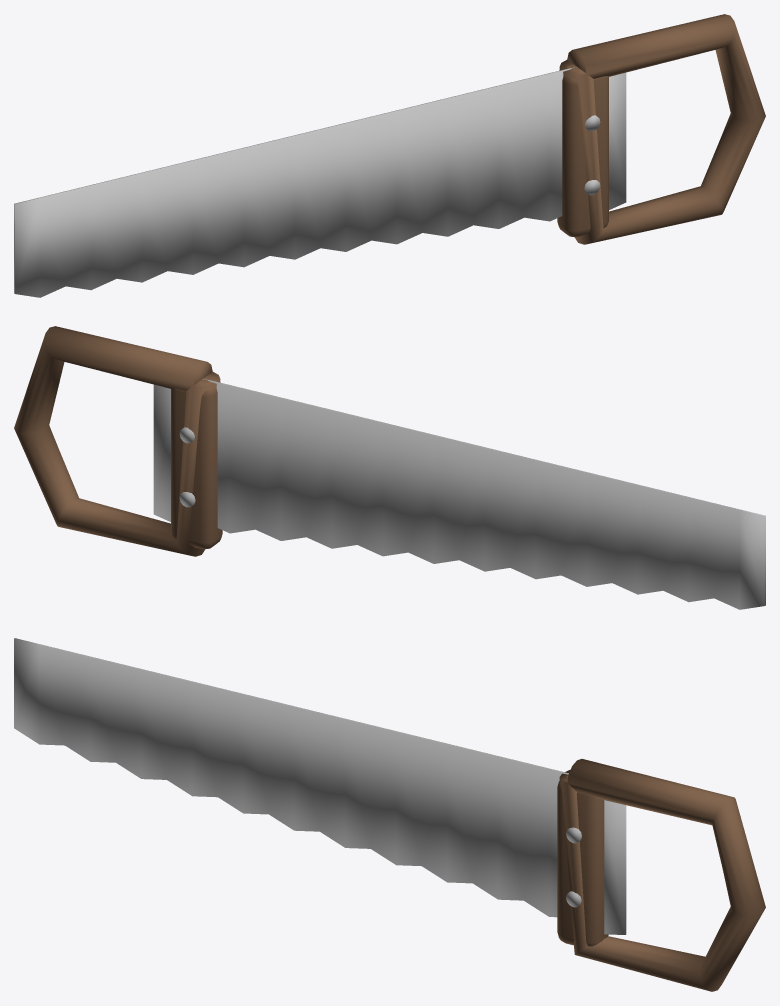
Rendered from fx_hand_saw.glb.
3 renders of one model, top to bottom at view 1: azimuth 30°, elevation 25°; view 2: azimuth 150°, elevation 25°; view 3: azimuth 330°, elevation 25°, orthographic.
Parts seen in each view (by area): view 1: fx_hand_saw; view 2: fx_hand_saw; view 3: fx_hand_saw.
Boxes of the visible parts, x1=… form: fx_hand_saw: x1=14, y1=14, x2=765, y2=297; fx_hand_saw: x1=14, y1=326, x2=765, y2=609; fx_hand_saw: x1=14, y1=638, x2=765, y2=991.
Bounding box in the file's own units: 0.612 × 0.1529 × 0.028.
